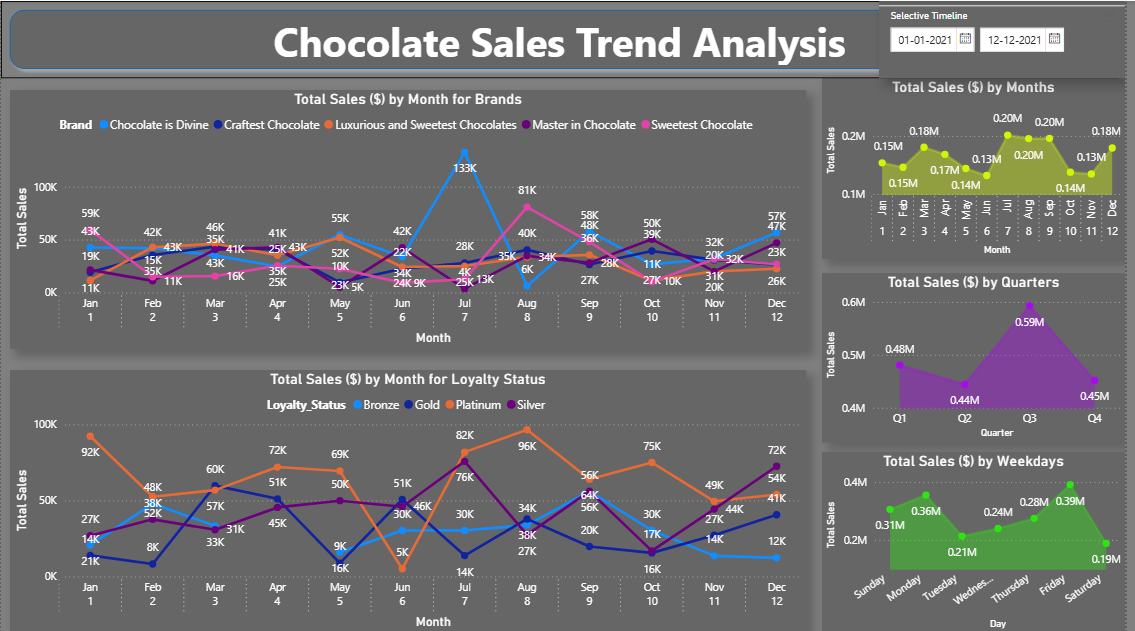

The page's visual inventory and layout, read from the dashboard file:
{"tool":"powerbi","page":{"name":"Sales_Trends","canvas":[1280,720],"ordinal":2},"visuals":[{"type":"lineChart","title":"Total Sales ($) by  Month for  Brands","fields":{"Y":["#Measures.Total Sales"],"Category":["Calendar_Dimension.Month Number","Calendar_Dimension.Month Hierarchy.Month"],"Series":["product_dimension.Brand"]},"box":[10.3,101.4,906.8,295.1],"z":0},{"type":"lineChart","title":"Total Sales ($) by  Month for Loyalty Status","fields":{"Y":["#Measures.Total Sales"],"Category":["Calendar_Dimension.Month Number","Calendar_Dimension.Month Hierarchy.Month"],"Series":["customer_dimension.Loyalty_Status"]},"box":[10.3,420.4,906.8,299.6],"z":1000},{"type":"areaChart","title":"Total Sales ($) by Months","fields":{"Category":["Calendar_Dimension.Month Number","Calendar_Dimension.Month Hierarchy.Month"],"Y":["#Measures.Total Sales"]},"box":[935.3,87.7,345.2,206.2],"z":2000},{"type":"areaChart","title":"Total Sales ($) by Quarters","fields":{"Y":["#Measures.Total Sales"],"Category":["Calendar_Dimension.Quarter"]},"box":[935.3,309.9,345.2,192.5],"z":3000},{"type":"areaChart","title":"Total Sales ($) by Weekdays","fields":{"Y":["#Measures.Total Sales"],"Category":["Calendar_Dimension.Day"]},"box":[935.3,513.8,345.2,206.2],"z":4000},{"type":"shape","box":[0,0,1272.5,87.7],"z":5000},{"type":"slicer","fields":{"Values":["Calendar_Dimension.Date"]},"box":[1000.3,0,280.3,87.7],"z":6000}]}

Visuals, with their boxes in screenshot pixels (x1, y1, x2, y2), scaled from the page's 1280x720 canvas onto the 1135x631 screenshot:
"Total Sales ($) by  Month for  Brands" lineChart: (9, 89, 813, 347)
"Total Sales ($) by  Month for Loyalty Status" lineChart: (9, 368, 813, 630)
"Total Sales ($) by Months" areaChart: (829, 77, 1134, 258)
"Total Sales ($) by Quarters" areaChart: (829, 272, 1134, 440)
"Total Sales ($) by Weekdays" areaChart: (829, 450, 1134, 630)
shape: (0, 0, 1128, 77)
slicer - Calendar_Dimension.Date: (887, 0, 1134, 77)
